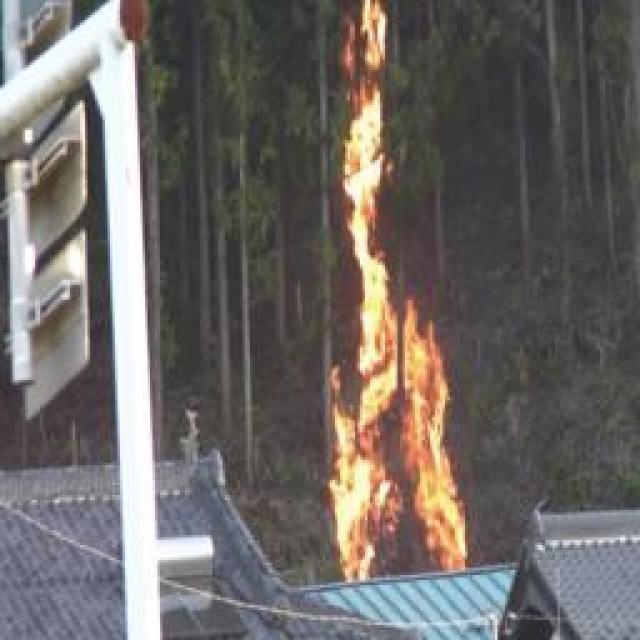Fire: (325, 3, 467, 578)
